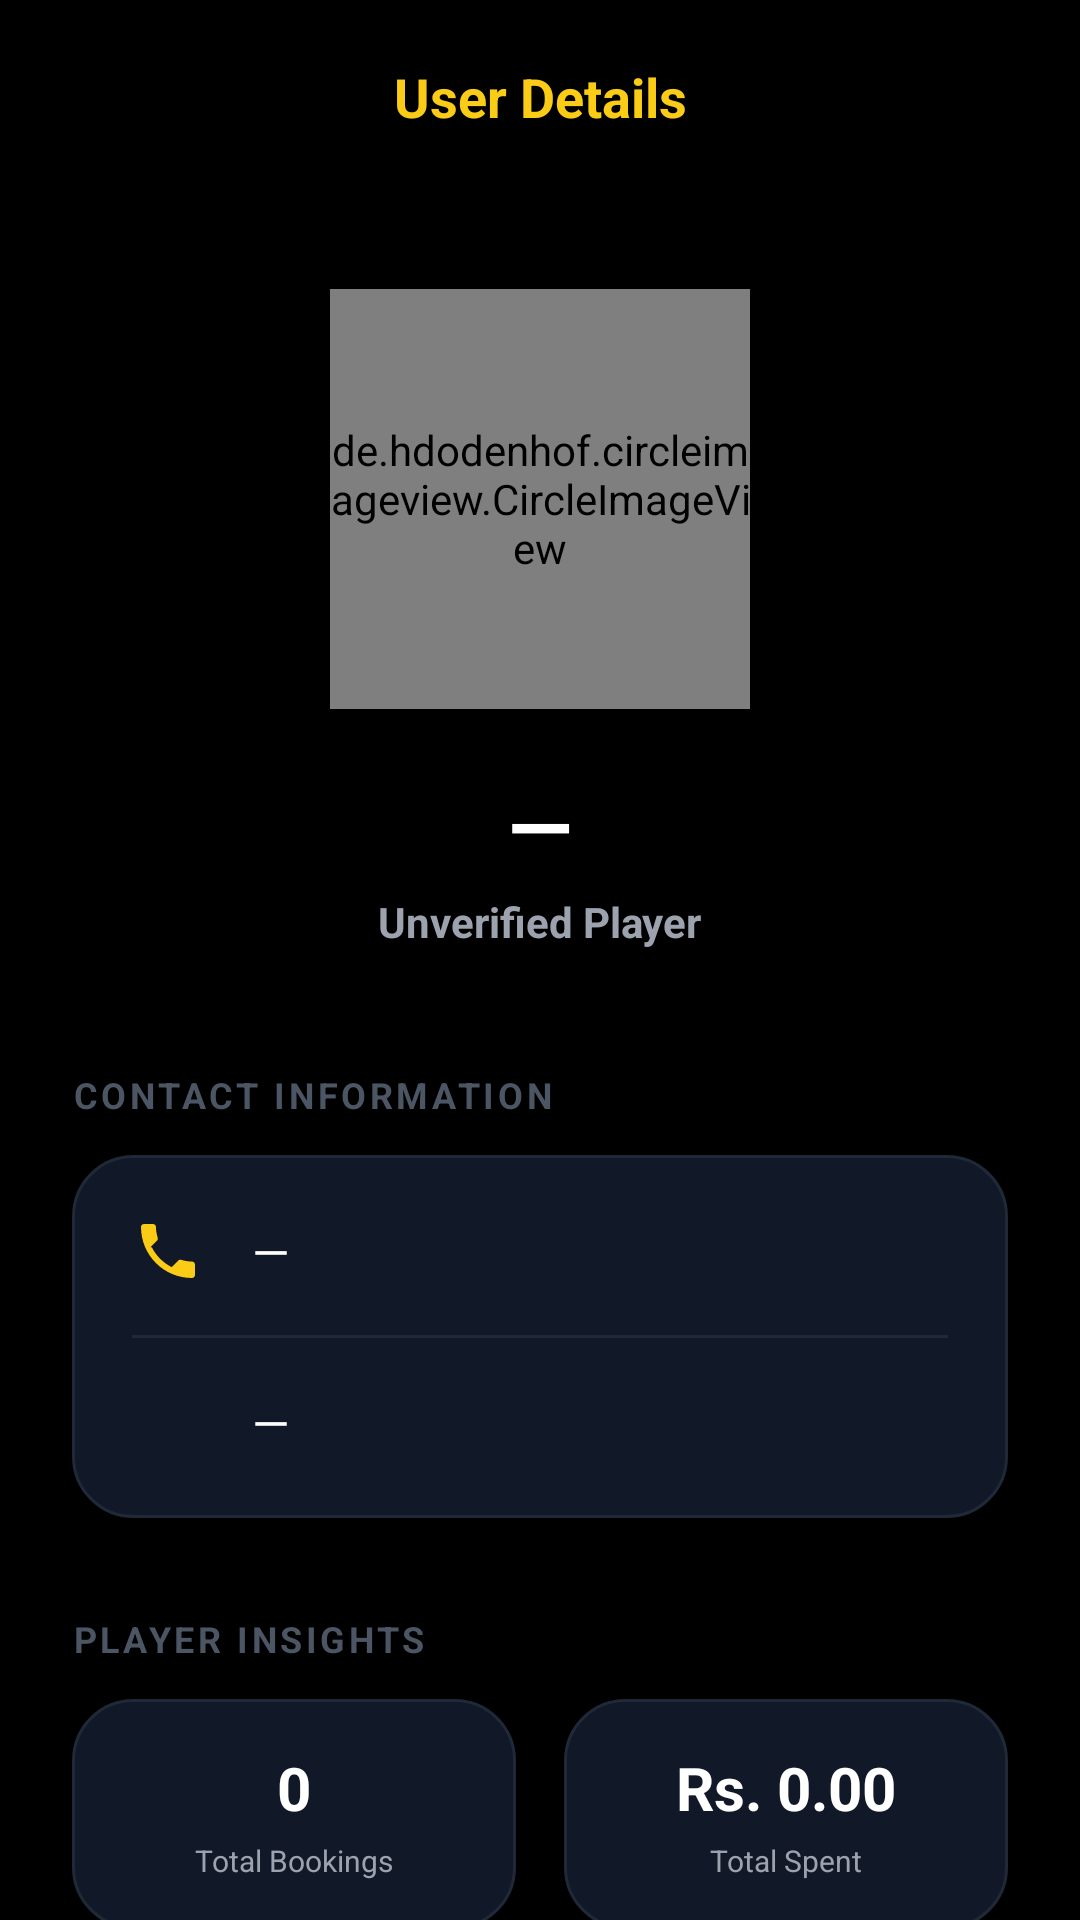

Point at icon controls on the screen. Image size 1080 × 1920, points as point (x, y).
phone: point (168, 1251)
